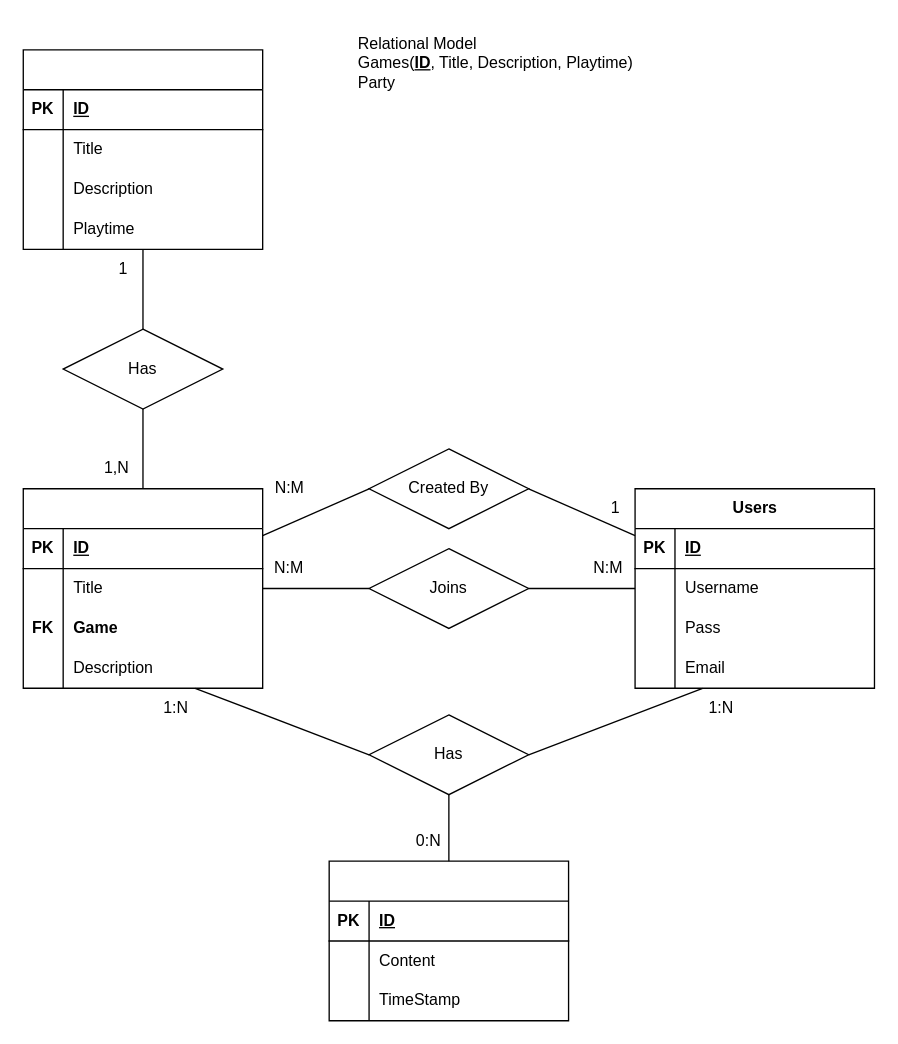
The diagram is 898 pixels wide and 1044 high, and some of its shapes have lost their labels. The shapes that lost their labels are listed below. From the top down, each one's box as (x1, y1, x2, y2) in pixels, then its label:
(22, 49, 263, 249): Games
(22, 487, 263, 688): Party
(328, 860, 569, 1021): Message
